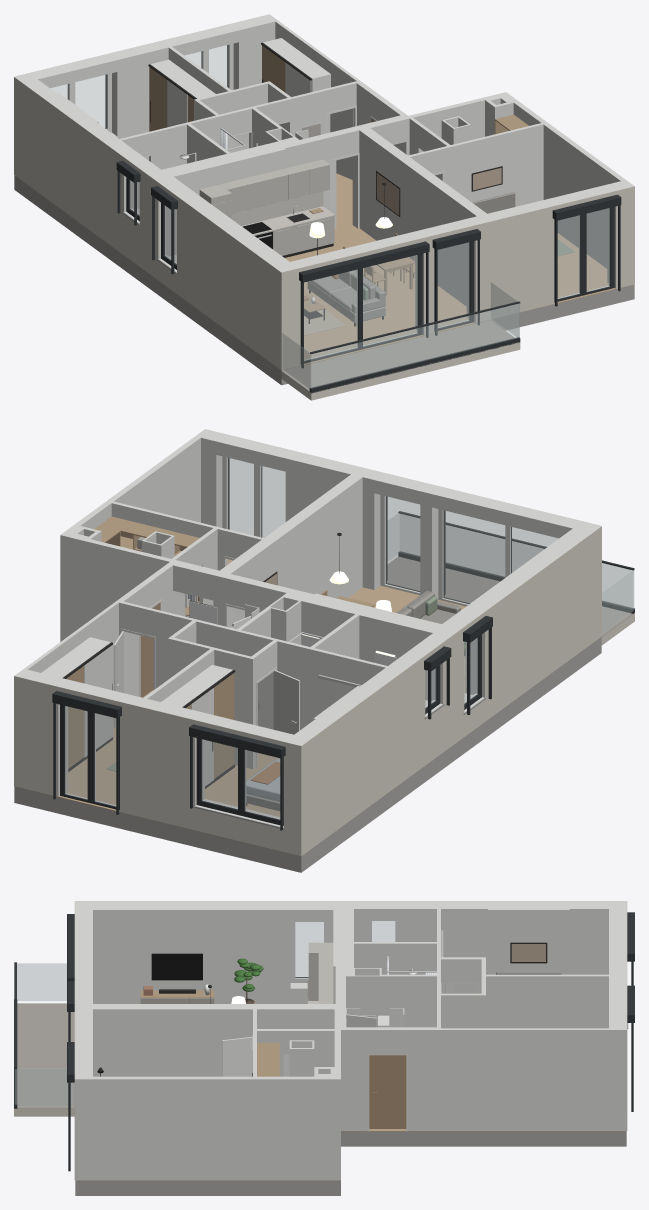
Rendered from alloggio_quadrilocale_P3-W.glb.
3 views of the same model, one above another, from view 1: azimuth 30°, elevation 25°; view 2: azimuth 150°, elevation 25°; view 3: azimuth 270°, elevation 25° (orthographic). The views are drawn at different scales.
Visible parts, largest first — view 1: 1_Muri e solai/muro_pelle.015, 1_Muri e solai/muro_pelle.007, 1_Muri e solai/muro_039, 2_Serramenti e porte/F6_S_4_vetro, 1_Muri e solai/pavimento_rovere_1, 4_Arredo W soggiorno/W soggiorno - cucina lineare 360, 3_Balcone/balcone_vetro, 1_Muri e solai/muro_pelle.022, 1_Muri e solai/muro_062, 1_Muri e solai/muro_053, 3_Balcone/balcone_gres, 1_Muri e solai/solaio_1 (+63 smaller); view 2: 1_Muri e solai/muro_pelle.007, 1_Muri e solai/muro_pelle.015, 1_Muri e solai/muro_039, 1_Muri e solai/muro_pelle.004, 1_Muri e solai/solaio_0, 1_Muri e solai/muro_041, 2_Serramenti e porte/F6_S_4_vetro, 1_Muri e solai/muro_053, 3_Balcone/balcone_vetro, 1_Muri e solai/muro_pelle.006, 2_Serramenti e porte/F1_N_0_vetro, 2_Serramenti e porte/F2_N_1_vetro (+62 smaller); view 3: 1_Muri e solai/muro_053, 1_Muri e solai/muro_008, 1_Muri e solai/muro_057, 1_Muri e solai/muro_039, 1_Muri e solai/muro_006, 1_Muri e solai/muro_007, 3_Balcone/balcone_gres, 1_Muri e solai/solaio_0, 1_Muri e solai/muro_009, 1_Muri e solai/solaio_1, 1_Muri e solai/muro_033, 2_Serramenti e porte/porta_P1_anta (+37 smaller).
Part boxes in pixels (x1=…): 1_Muri e solai/muro_pelle.015: x1=177, y1=196, x2=281, y2=370; 1_Muri e solai/muro_pelle.007: x1=22, y1=83, x2=124, y2=254; 1_Muri e solai/muro_039: x1=355, y1=124, x2=495, y2=306; 2_Serramenti e porte/F6_S_4_vetro: x1=304, y1=255, x2=417, y2=360; 1_Muri e solai/pavimento_rovere_1: x1=282, y1=227, x2=633, y2=370; 4_Arredo W soggiorno/W soggiorno - cucina lineare 360: x1=199, y1=159, x2=334, y2=257; 3_Balcone/balcone_vetro: x1=311, y1=304, x2=518, y2=388; 1_Muri e solai/muro_pelle.022: x1=496, y1=206, x2=554, y2=317; 1_Muri e solai/muro_062: x1=451, y1=123, x2=543, y2=206; 1_Muri e solai/muro_053: x1=513, y1=101, x2=634, y2=268; 3_Balcone/balcone_gres: x1=281, y1=320, x2=519, y2=392; 1_Muri e solai/solaio_1: x1=153, y1=277, x2=634, y2=385; 1_Muri e solai/muro_pelle.007: x1=311, y1=655, x2=425, y2=848; 1_Muri e solai/muro_pelle.015: x1=484, y1=526, x2=601, y2=721; 1_Muri e solai/muro_039: x1=213, y1=467, x2=371, y2=625; 1_Muri e solai/muro_pelle.004: x1=120, y1=701, x2=195, y2=830; 1_Muri e solai/solaio_0: x1=14, y1=743, x2=456, y2=872; 1_Muri e solai/muro_041: x1=60, y1=532, x2=172, y2=641; 2_Serramenti e porte/F6_S_4_vetro: x1=443, y1=510, x2=558, y2=603; 1_Muri e solai/muro_053: x1=75, y1=429, x2=209, y2=528; 3_Balcone/balcone_vetro: x1=400, y1=514, x2=633, y2=608; 1_Muri e solai/muro_pelle.006: x1=14, y1=676, x2=58, y2=796; 2_Serramenti e porte/F1_N_0_vetro: x1=202, y1=739, x2=279, y2=819; 2_Serramenti e porte/F2_N_1_vetro: x1=65, y1=706, x2=115, y2=806; 1_Muri e solai/muro_053: x1=75, y1=1076, x2=314, y2=1180; 1_Muri e solai/muro_008: x1=408, y1=1028, x2=608, y2=1130; 1_Muri e solai/muro_057: x1=75, y1=901, x2=290, y2=1003; 1_Muri e solai/muro_039: x1=75, y1=1004, x2=345, y2=1076; 1_Muri e solai/muro_006: x1=400, y1=901, x2=608, y2=993; 1_Muri e solai/muro_007: x1=481, y1=974, x2=608, y2=1028; 3_Balcone/balcone_gres: x1=14, y1=1003, x2=74, y2=1108; 1_Muri e solai/solaio_0: x1=341, y1=1131, x2=626, y2=1146; 1_Muri e solai/muro_009: x1=488, y1=909, x2=569, y2=974; 1_Muri e solai/solaio_1: x1=75, y1=1180, x2=340, y2=1195; 1_Muri e solai/muro_033: x1=334, y1=1027, x2=367, y2=1130; 2_Serramenti e porte/porta_P1_anta: x1=369, y1=1055, x2=406, y2=1128.
Bounding box in the file's own units: 10.5 × 3.15 × 15.2.
